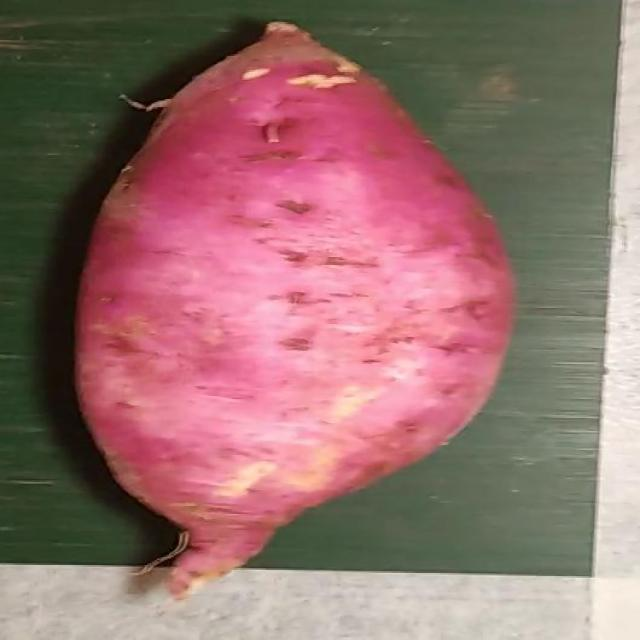Sweet Potato: (74, 23, 514, 589)
